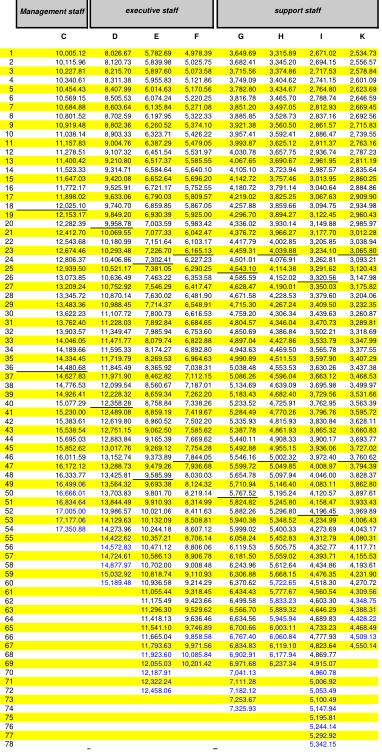table: (4, 4, 375, 747)
table column: (15, 4, 92, 747), (175, 4, 219, 747), (92, 4, 135, 747), (219, 4, 261, 747), (301, 4, 342, 747), (135, 4, 175, 747), (261, 4, 301, 747), (342, 4, 375, 747), (4, 4, 15, 747)
table column header: (4, 4, 375, 43)
table row: (4, 22, 375, 43), (4, 4, 375, 22), (4, 43, 375, 56), (4, 56, 375, 65), (4, 65, 375, 74), (4, 74, 375, 83), (4, 83, 375, 92), (4, 92, 375, 101), (4, 101, 375, 110), (4, 110, 375, 119), (4, 119, 375, 128), (4, 128, 375, 137), (4, 145, 375, 154), (4, 154, 375, 163), (4, 163, 375, 172), (4, 172, 375, 181), (4, 181, 375, 190), (4, 190, 375, 199), (4, 199, 375, 208), (4, 208, 375, 217), (4, 217, 375, 226), (4, 226, 375, 235), (4, 235, 375, 244), (4, 244, 375, 253), (4, 253, 375, 262), (4, 262, 375, 271), (4, 271, 375, 280), (4, 280, 375, 289), (4, 289, 375, 298), (4, 298, 375, 307), (4, 307, 375, 316), (4, 316, 375, 325), (4, 325, 375, 334), (4, 334, 375, 343), (4, 343, 375, 352), (4, 352, 375, 361), (4, 361, 375, 370), (4, 370, 375, 379), (4, 379, 375, 388), (4, 388, 375, 397), (4, 397, 375, 406), (4, 406, 375, 415), (4, 415, 375, 424), (4, 424, 375, 433), (4, 433, 375, 442), (4, 442, 375, 451), (4, 451, 375, 460), (4, 460, 375, 469), (4, 469, 375, 478), (4, 478, 375, 487), (4, 487, 375, 496), (4, 496, 375, 505), (4, 505, 375, 514), (4, 514, 375, 523), (4, 523, 375, 532), (4, 532, 375, 541), (4, 541, 375, 550), (4, 550, 375, 559), (4, 567, 375, 576), (4, 576, 375, 585), (4, 585, 375, 594), (4, 594, 375, 603), (4, 603, 375, 612), (4, 612, 375, 621), (4, 621, 375, 630), (4, 630, 375, 639), (4, 639, 375, 648), (4, 648, 375, 657), (4, 657, 375, 666), (4, 666, 375, 675), (4, 675, 375, 684), (4, 684, 375, 693), (4, 693, 375, 702), (4, 702, 375, 711), (4, 711, 375, 720), (4, 720, 375, 729), (4, 729, 375, 738), (4, 738, 375, 747), (4, 137, 375, 145), (4, 559, 375, 567)
table spanning cell: (15, 4, 92, 43), (219, 4, 375, 22), (92, 4, 219, 22)
